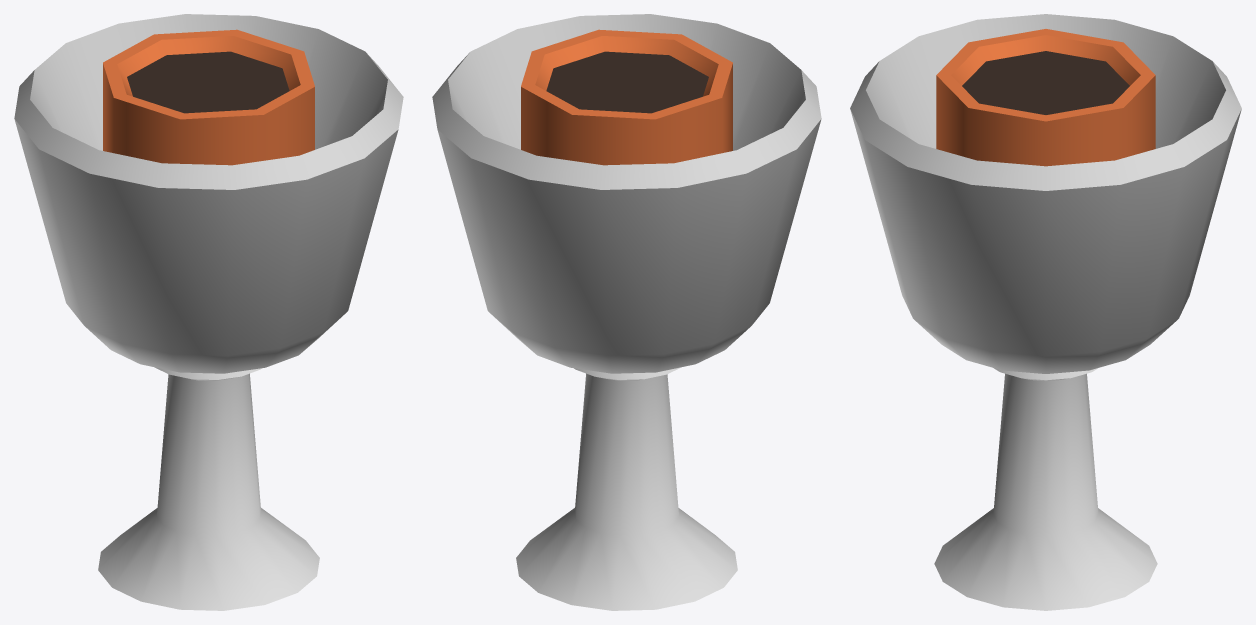
Rendered from bokalgor.fbx.
The picture shows the model from 3 angles, left to right: view 1: azimuth 30°, elevation 25°; view 2: azimuth 150°, elevation 25°; view 3: azimuth 270°, elevation 25°; orthographic projection.
Visible parts, largest first — view 1: Цилиндр; view 2: Цилиндр; view 3: Цилиндр.
Boxes of the visible parts, x1,y1,x2,y2 form: Цилиндр: (14,14,403,610); Цилиндр: (432,14,821,610); Цилиндр: (850,14,1241,610).
Size of the model in its own units: 30 by 41.27 by 30.
